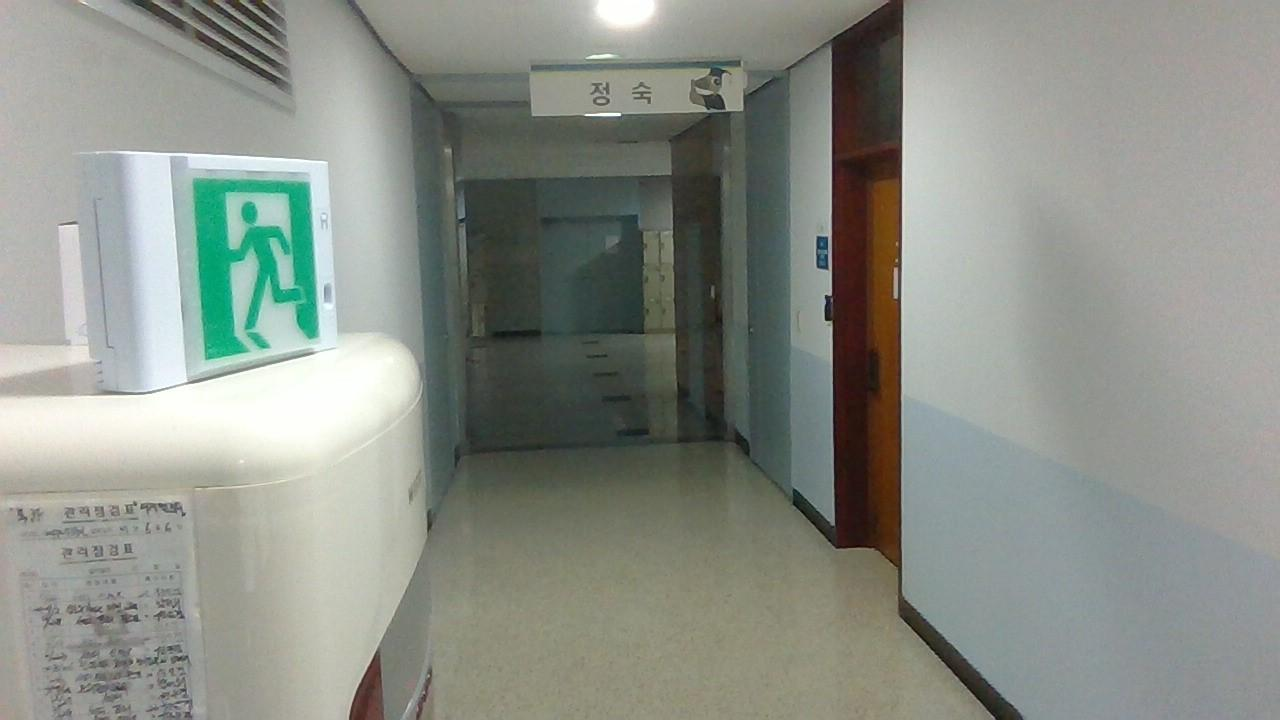emergency_exit: (73, 148, 339, 395), (527, 60, 747, 118)
